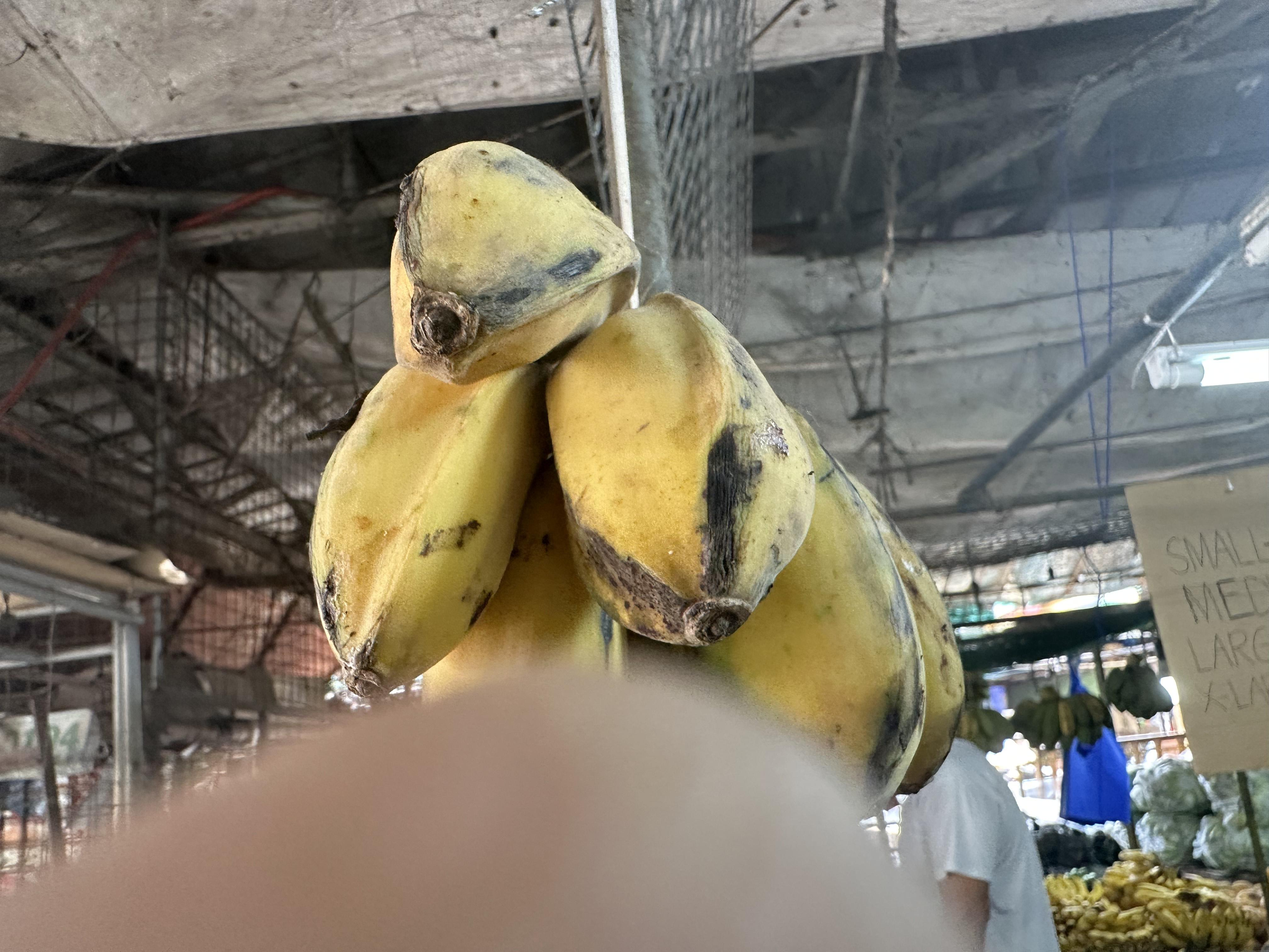ripe: (311, 141, 963, 808)
